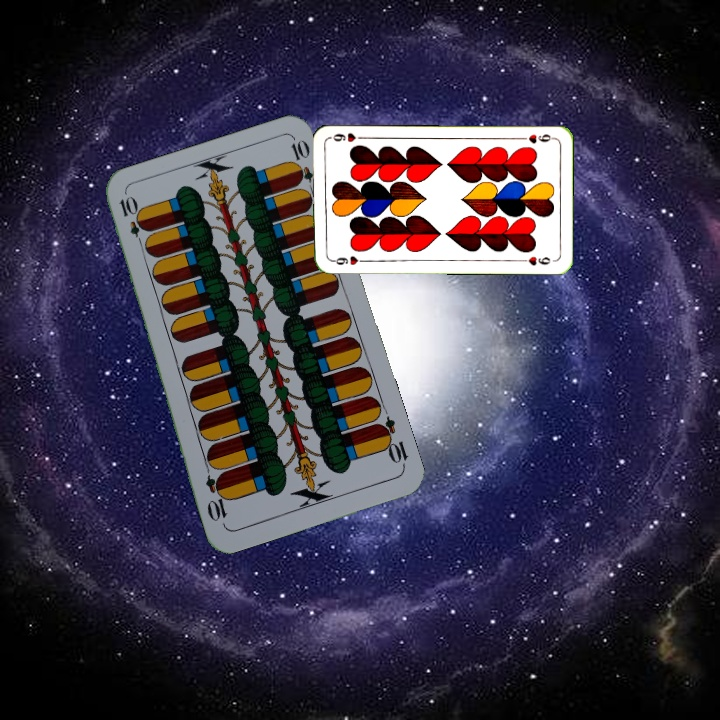E10: (372, 413, 411, 471), (115, 192, 148, 250)
H9: (516, 130, 557, 146), (327, 252, 368, 268)
